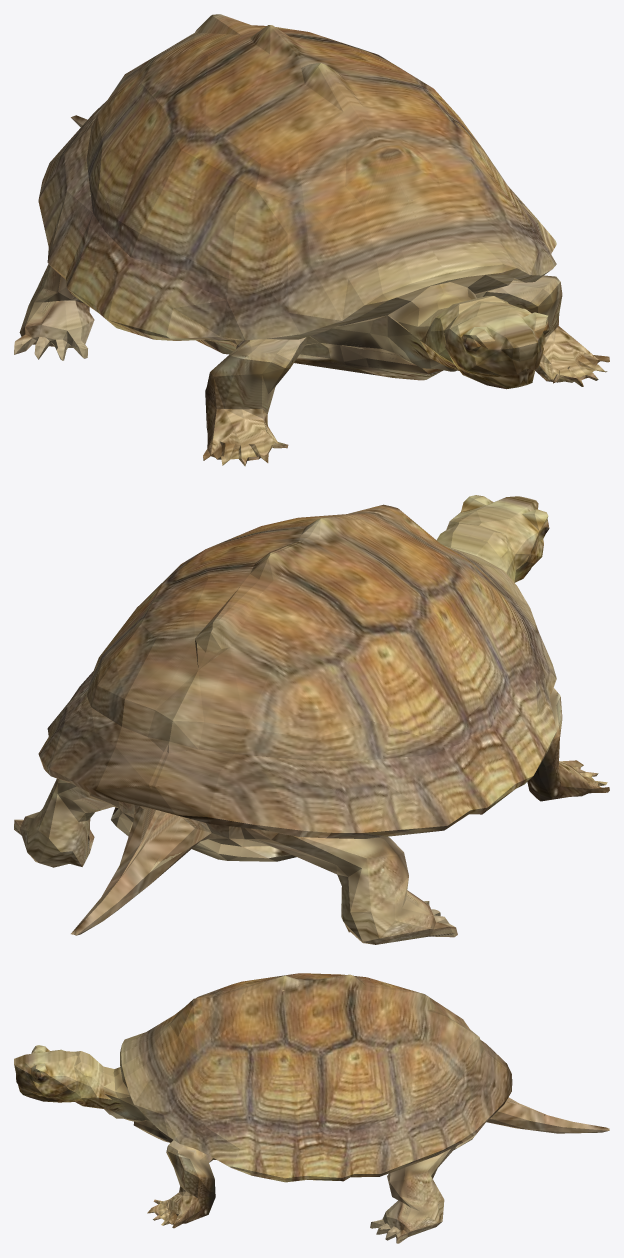
The model's file is tortuga.obj.
3 views of the same model, one above another, from view 1: azimuth 30°, elevation 25°; view 2: azimuth 150°, elevation 25°; view 3: azimuth 270°, elevation 25° (orthographic). The views are drawn at different scales.
Parts seen in each view (by area): view 1: Turtle; view 2: Turtle; view 3: Turtle.
Part boxes in pixels (<box>): Turtle: <box>14,14,609,466</box>; Turtle: <box>14,495,609,944</box>; Turtle: <box>14,973,609,1243</box>.
Size of the model in its own units: 2.71 by 1.78 by 4.8.
1 material, 1 textured.
